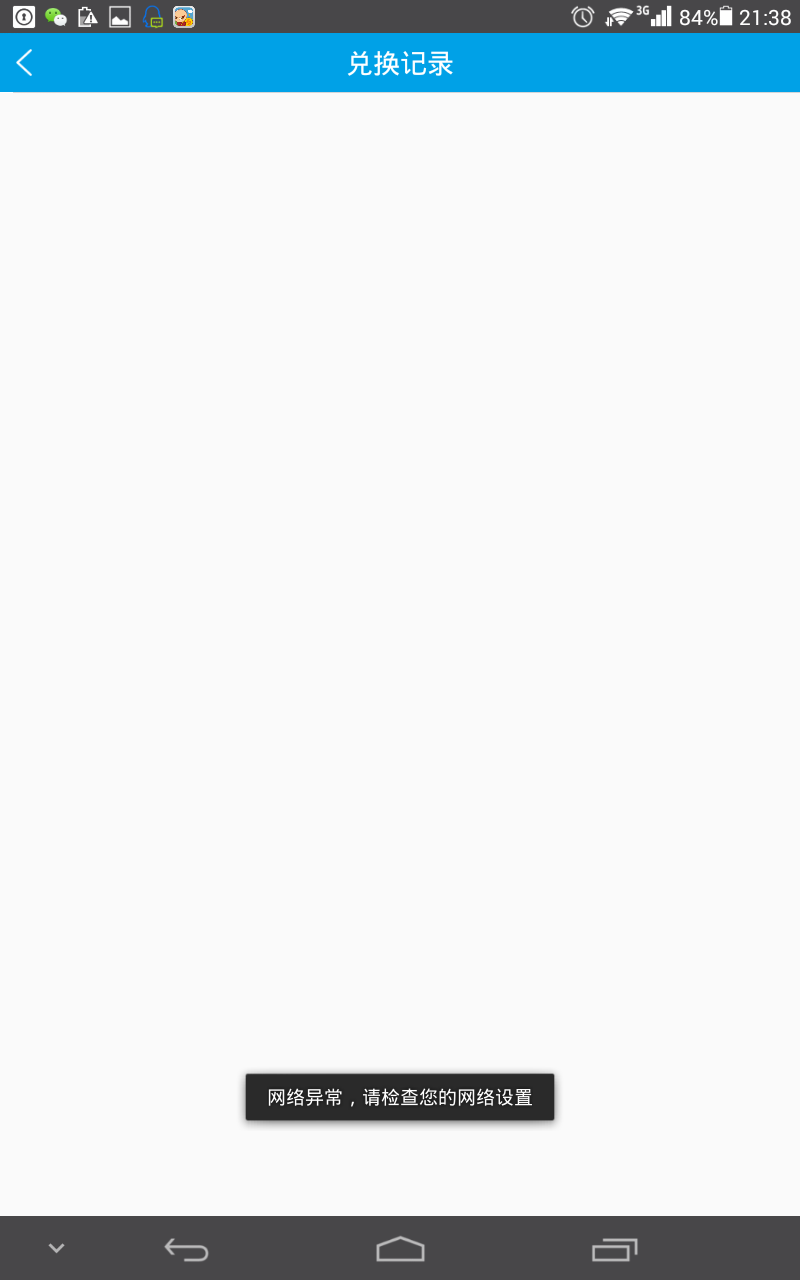alert: (238, 1068, 560, 1131)
